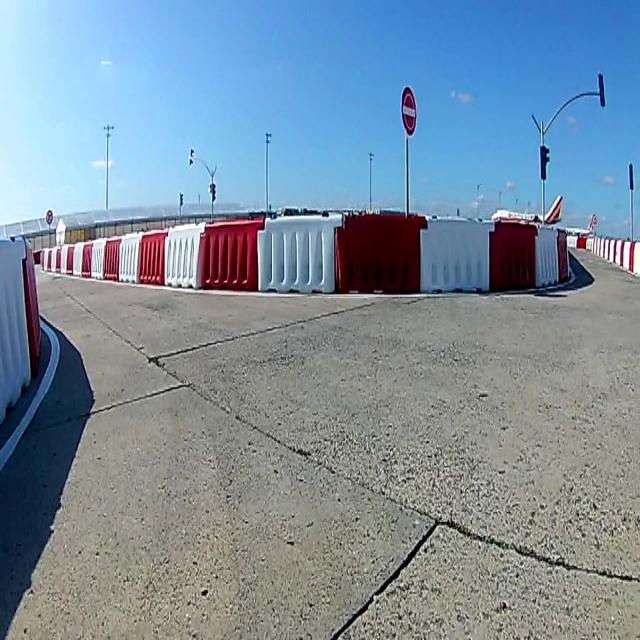girisyok: (402, 88, 416, 136)
